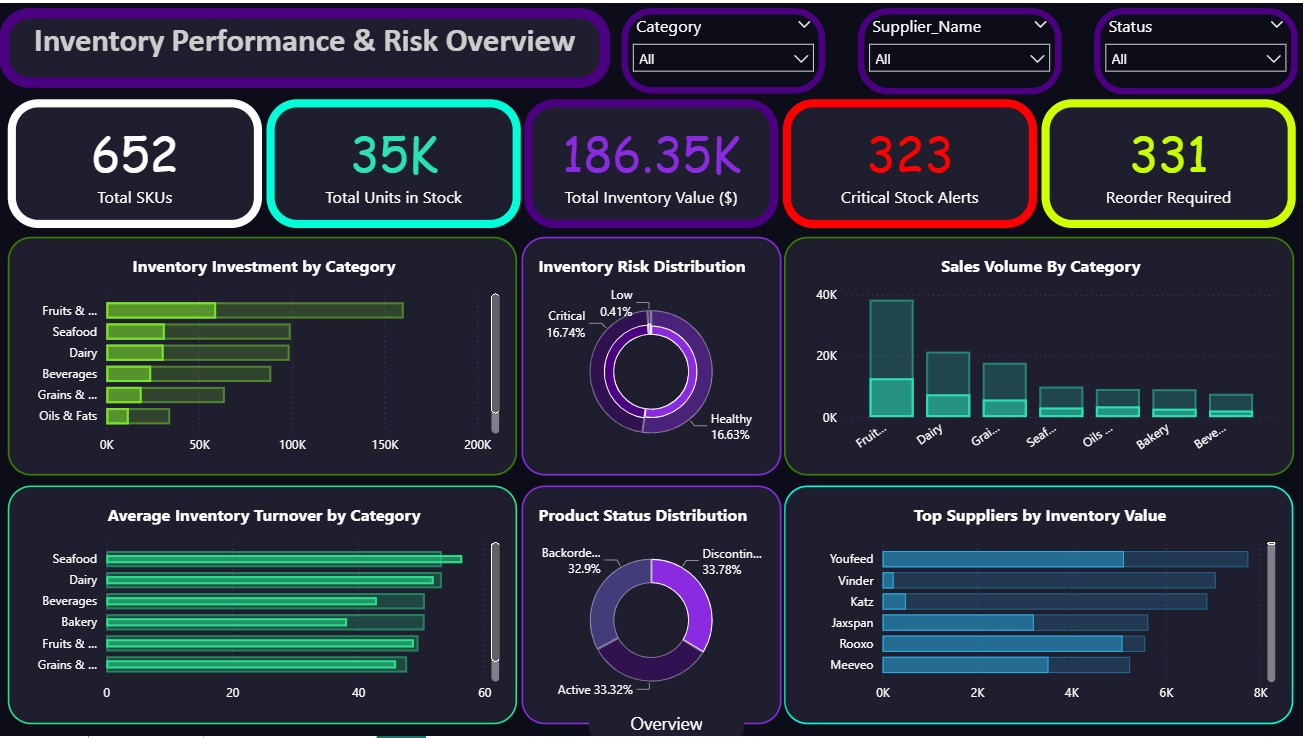

Layout of this report page (visuals, bound fields, positions):
{"tool":"powerbi","page":{"name":"Overview","canvas":[1280,720],"ordinal":0},"visuals":[{"type":"card","fields":{"Values":["inventory_management inventory_dashboard_view.Total Products"]},"box":[8.8,94.9,249.6,126.6],"z":0},{"type":"card","fields":{"Values":["inventory_management inventory_dashboard_view.Total Stock Quantity"]},"box":[262.4,94.9,249.6,126.6],"z":1000},{"type":"card","fields":{"Values":["inventory_management inventory_dashboard_view.Total Inventory Value"]},"box":[515.9,94.9,249.6,126.6],"z":2000},{"type":"card","fields":{"Values":["inventory_management inventory_dashboard_view.Reorder Required Items"]},"box":[1023,94.9,249.6,126.6],"z":3000},{"type":"card","fields":{"Values":["inventory_management inventory_dashboard_view.Critical Stock Items"]},"box":[769.5,94.9,249.6,126.6],"z":4000},{"type":"shape","box":[0,5.1,599.9,78.6],"z":5000},{"type":"barChart","title":"Inventory Investment by Category","fields":{"Category":["inventory_management inventory_dashboard_view.Category"],"Y":["Sum(inventory_management inventory_dashboard_view.Inventory_Value)"]},"box":[8.9,229.6,500,234.6],"z":6000},{"type":"columnChart","title":"Sales Volume By Category","fields":{"Category":["inventory_management inventory_dashboard_view.Category"],"Y":["Sum(inventory_management inventory_dashboard_view.Sales_Volume)"]},"box":[771.2,229.6,501,234.6],"z":7000},{"type":"slicer","fields":{"Values":["inventory_management inventory_dashboard_view.Category"]},"box":[611.3,5.1,200,84],"z":8000},{"type":"slicer","fields":{"Values":["inventory_management inventory_dashboard_view.Supplier_Name"]},"box":[842.8,5.1,200,85],"z":9000},{"type":"slicer","fields":{"Values":["inventory_management inventory_dashboard_view.Status"]},"box":[1074.3,5.1,200,85],"z":10000},{"type":"barChart","title":"Average Inventory Turnover by Category","fields":{"Category":["inventory_management inventory_dashboard_view.Category"],"Y":["Avg(inventory_management inventory_dashboard_view.Inventory_Turnover_Rate)"]},"box":[8.9,474,500,234],"z":11000},{"type":"clusteredBarChart","title":"Top Suppliers by Inventory Value","fields":{"Category":["inventory_management inventory_dashboard_view.Supplier_Name"],"Y":["Sum(inventory_management inventory_dashboard_view.Inventory_Value)"]},"box":[771.2,474,499.7,234.6],"z":12000},{"type":"donutChart","title":"Inventory Risk Distribution","fields":{"Category":["inventory_management inventory_dashboard_view.Stock_Risk_Level"],"Y":["inventory_management inventory_dashboard_view.Total Products"]},"box":[512.5,229.6,254.9,234.6],"z":13000},{"type":"textbox","box":[27.8,8.3,299.8,61.1],"z":14000},{"type":"textbox","box":[9.7,16.7,580.2,61.1],"z":15000},{"type":"donutChart","title":"Product Status Distribution","fields":{"Category":["inventory_management inventory_dashboard_view.Status"],"Y":["CountNonNull(inventory_management inventory_dashboard_view.Product_ID)"]},"box":[512.5,474,255,234],"z":16000},{"type":"actionButton","title":"o","box":[579.6,690,152.2,30.4],"z":17000}]}

Visuals, with their boxes in screenshot pixels (x1, y1, x2, y2), scaled from the page's 1280x720 canvas onto the 1303x738 screenshot:
card - inventory_management inventory_dashboard_view.Total Products: x1=9, y1=97, x2=263, y2=227
card - inventory_management inventory_dashboard_view.Total Stock Quantity: x1=267, y1=97, x2=521, y2=227
card - inventory_management inventory_dashboard_view.Total Inventory Value: x1=525, y1=97, x2=779, y2=227
card - inventory_management inventory_dashboard_view.Reorder Required Items: x1=1041, y1=97, x2=1295, y2=227
card - inventory_management inventory_dashboard_view.Critical Stock Items: x1=783, y1=97, x2=1037, y2=227
shape: x1=0, y1=5, x2=611, y2=86
"Inventory Investment by Category" barChart: x1=9, y1=235, x2=518, y2=476
"Sales Volume By Category" columnChart: x1=785, y1=235, x2=1295, y2=476
slicer - inventory_management inventory_dashboard_view.Category: x1=622, y1=5, x2=826, y2=91
slicer - inventory_management inventory_dashboard_view.Supplier_Name: x1=858, y1=5, x2=1062, y2=92
slicer - inventory_management inventory_dashboard_view.Status: x1=1094, y1=5, x2=1297, y2=92
"Average Inventory Turnover by Category" barChart: x1=9, y1=486, x2=518, y2=726
"Top Suppliers by Inventory Value" clusteredBarChart: x1=785, y1=486, x2=1294, y2=726
"Inventory Risk Distribution" donutChart: x1=522, y1=235, x2=781, y2=476
textbox: x1=28, y1=9, x2=333, y2=71
textbox: x1=10, y1=17, x2=600, y2=80
"Product Status Distribution" donutChart: x1=522, y1=486, x2=781, y2=726
"o" actionButton: x1=590, y1=707, x2=745, y2=737
